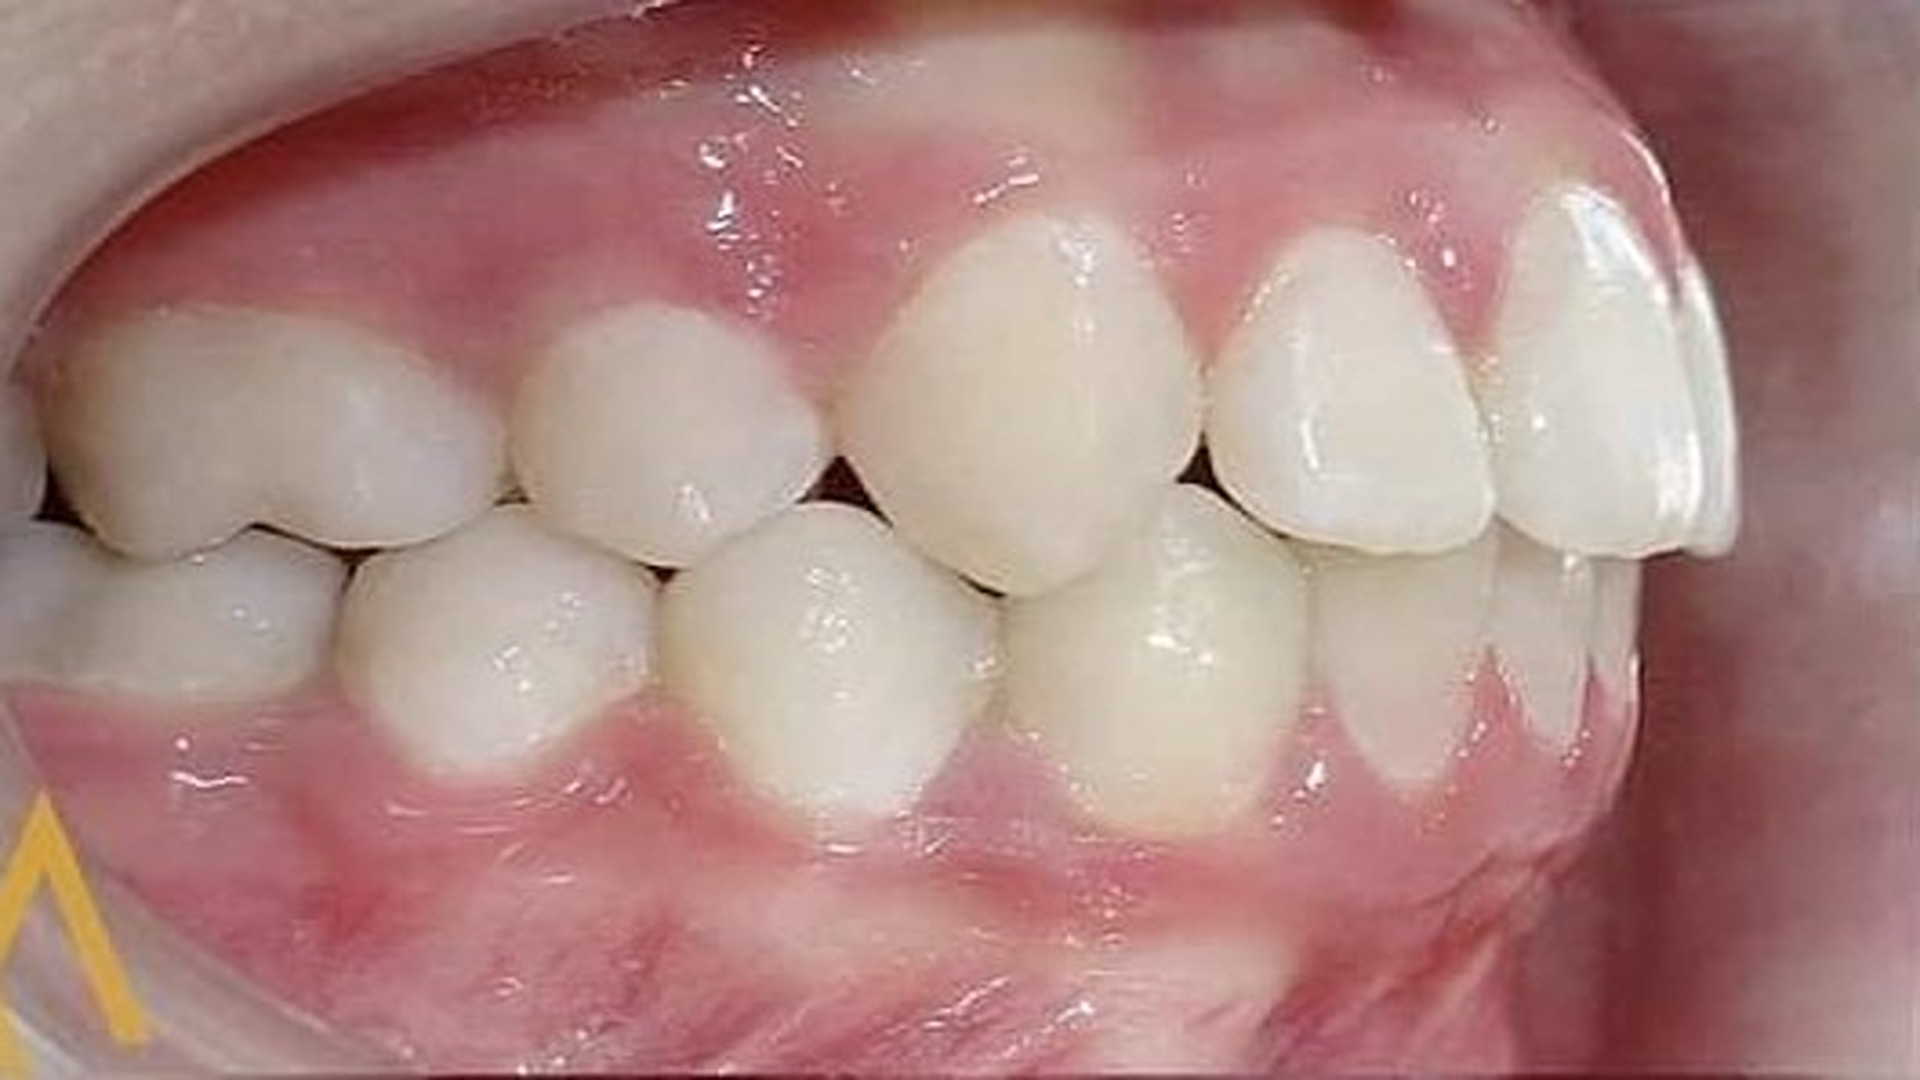tooth: (836, 215, 1197, 599), (30, 305, 506, 563), (655, 502, 1000, 841), (1005, 484, 1308, 837), (1204, 227, 1498, 555), (1465, 187, 1706, 558), (506, 303, 822, 572), (334, 510, 659, 770), (1, 524, 348, 707), (1287, 524, 1501, 790), (1486, 516, 1594, 767), (1662, 251, 1743, 560), (1586, 556, 1640, 707)
